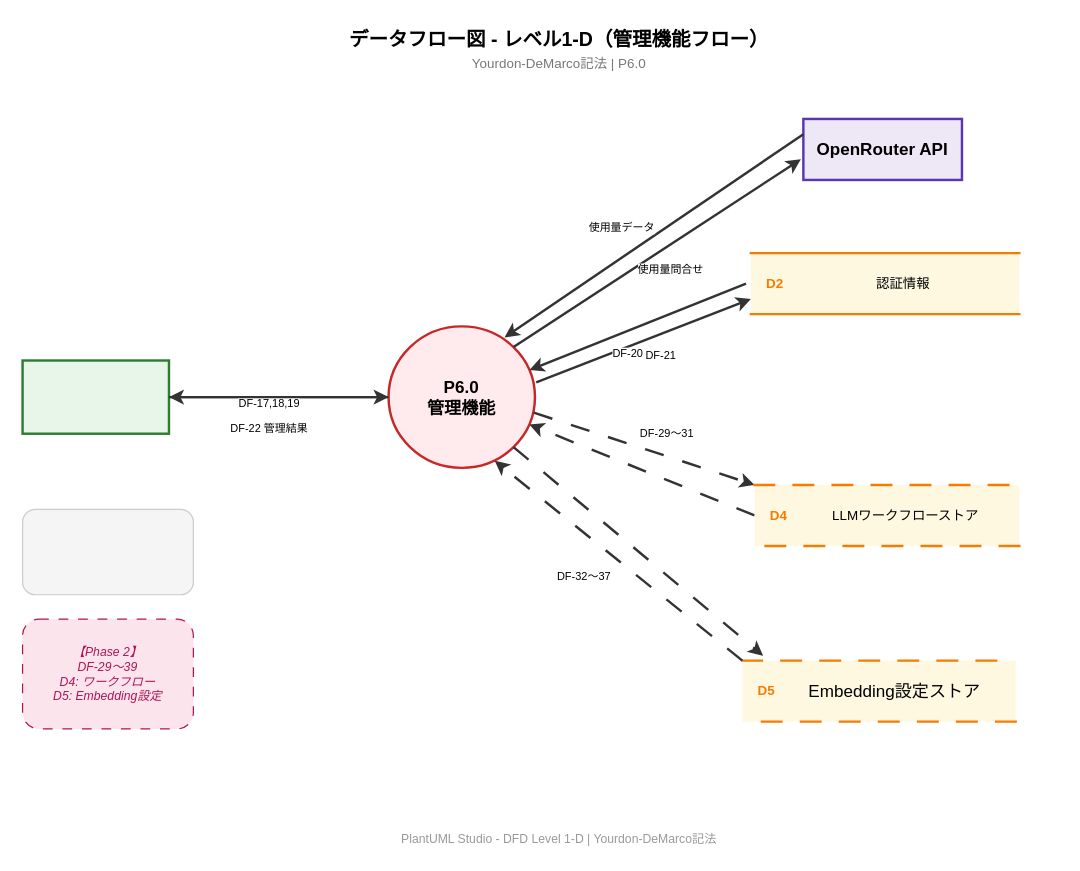
Image size: 1080x871. Some labels were removed from this diagram. Here are the shapes that lost their labels. From the top down, the box of each, then its label:
(21, 359, 170, 434): 開発者/管理者
(21, 508, 193, 595): 【MVP】 DF-17〜22 D2: 認証情報
